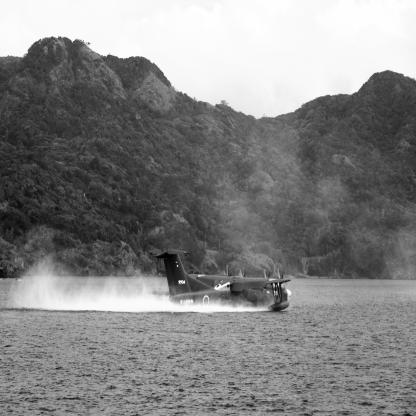US2: (148, 248, 292, 312)
